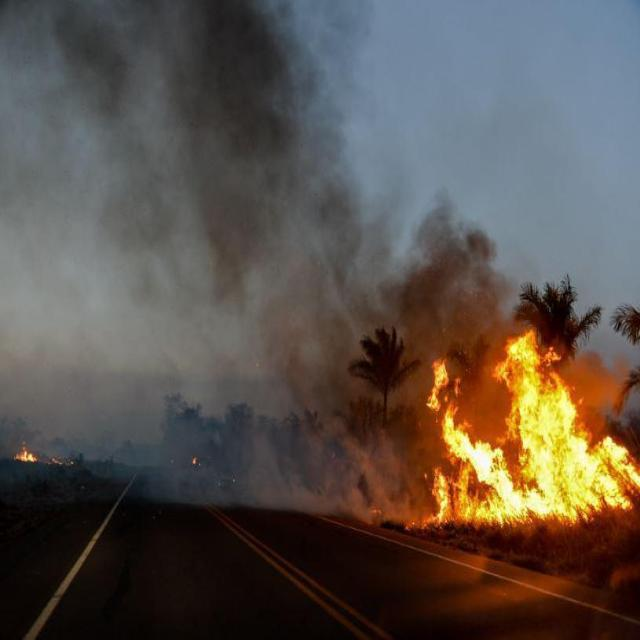Fire: (412, 338, 638, 530), (14, 444, 38, 462)
Smoke: (2, 2, 500, 398), (49, 404, 424, 526)
